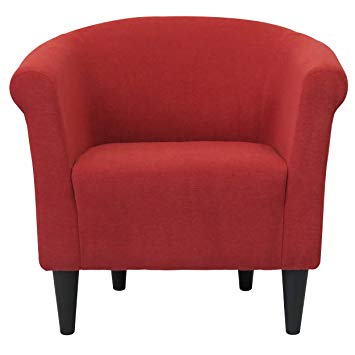chairs: (11, 18, 347, 334)
